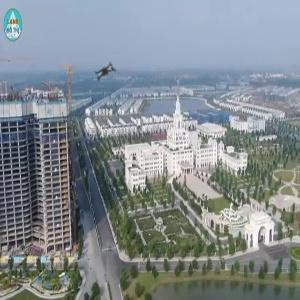drone: (77, 45, 133, 101)
